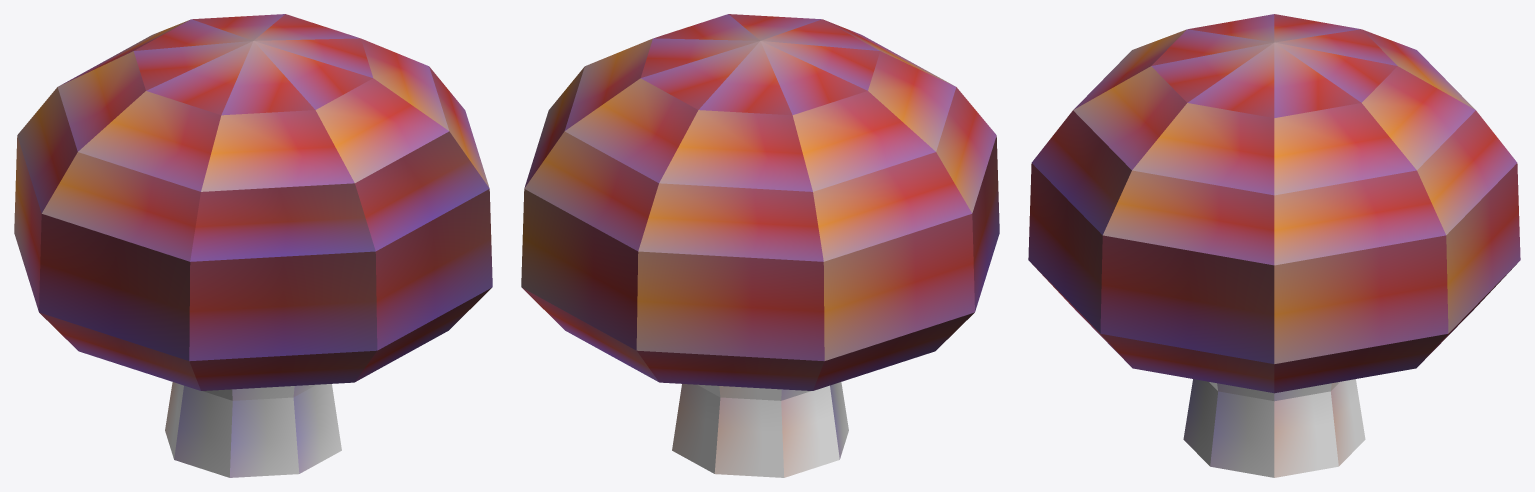
File: mushroom.fbx
3 renders of one model, left to right at view 1: azimuth 30°, elevation 25°; view 2: azimuth 150°, elevation 25°; view 3: azimuth 270°, elevation 25°, orthographic.
Visible parts, largest first — view 1: mushroom; view 2: mushroom; view 3: mushroom.
Part boxes in pixels (x1=…): mushroom: x1=14, y1=14, x2=492, y2=477; mushroom: x1=521, y1=14, x2=999, y2=477; mushroom: x1=1028, y1=14, x2=1520, y2=477.
Bounding box in the file's own units: 116 × 103 × 116.
